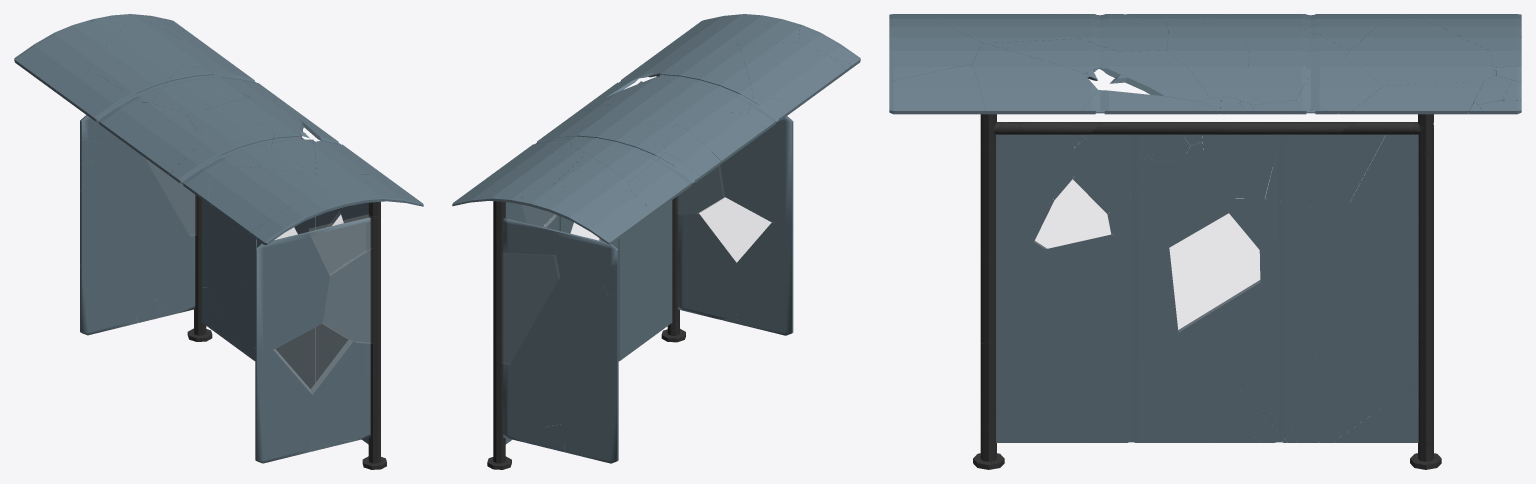
The model's file is BusStopCellFracture.fbx.
The picture shows the model from 3 angles, left to right: view 1: azimuth 30°, elevation 25°; view 2: azimuth 150°, elevation 25°; view 3: azimuth 270°, elevation 25°; orthographic projection. The views are drawn at different scales.
Parts seen in each view (by area): view 1: Side1_cell.005, Side2_cell.005, Side2_cell.003, Side2_cell.006, Cover_cell.012, Cover_cell.037, Side2_cell.007, Side1_cell.002, Side2_cell.001, Side1_cell.004, Cover_cell.031, Cover_cell.017 (+35 smaller); view 2: Side1_cell.005, Side2_cell.005, Side2_cell.003, Side2_cell.006, Cover_cell.012, Cover_cell.037, Side1_cell.010, Side1_cell.002, Backside_cell.025, Side1_cell.004, Cover_cell.031, Cover_cell.017 (+35 smaller); view 3: Backside_cell.029, Backside_cell.011, Backside_cell.016, Backside_cell.025, Backside_cell.008, Backside_cell.026, Backside_cell.017, Backside_cell.019, Backside_cell.028, Backside_cell.020, Cover_cell.018, Backside_cell.001 (+43 smaller).
Boxes of the visible parts, x1,y1,x2,y2 form: Side1_cell.005: [80, 149, 188, 275]; Side2_cell.005: [255, 232, 329, 351]; Side2_cell.003: [255, 349, 312, 463]; Side2_cell.006: [310, 339, 370, 444]; Cover_cell.012: [207, 166, 315, 233]; Cover_cell.037: [14, 21, 125, 92]; Side2_cell.007: [322, 249, 371, 343]; Side1_cell.002: [80, 265, 141, 335]; Side2_cell.001: [274, 323, 352, 394]; Side1_cell.004: [141, 234, 195, 314]; Cover_cell.031: [125, 115, 199, 174]; Cover_cell.017: [56, 75, 141, 127]; Side1_cell.005: [510, 278, 618, 403]; Side2_cell.005: [720, 116, 793, 225]; Side2_cell.003: [736, 222, 793, 335]; Side2_cell.006: [678, 213, 737, 319]; Cover_cell.012: [738, 42, 845, 100]; Cover_cell.037: [522, 186, 652, 244]; Side1_cell.010: [503, 253, 560, 364]; Side1_cell.002: [557, 394, 618, 463]; Backside_cell.025: [623, 254, 672, 347]; Side1_cell.004: [503, 363, 558, 442]; Cover_cell.031: [677, 111, 765, 163]; Cover_cell.017: [628, 152, 700, 213]; Backside_cell.029: [1259, 203, 1418, 331]; Backside_cell.011: [1045, 234, 1178, 363]; Backside_cell.016: [1165, 280, 1329, 393]; Backside_cell.025: [996, 338, 1119, 442]; Backside_cell.008: [1083, 357, 1215, 442]; Backside_cell.026: [1107, 154, 1235, 247]; Backside_cell.017: [1349, 134, 1418, 300]; Backside_cell.019: [985, 241, 1080, 351]; Backside_cell.028: [1170, 213, 1259, 331]; Backside_cell.020: [1265, 134, 1385, 206]; Cover_cell.018: [972, 43, 1097, 114]; Backside_cell.001: [1310, 337, 1418, 437].
Bounding box in the file's own units: 424 × 778 × 1162.
